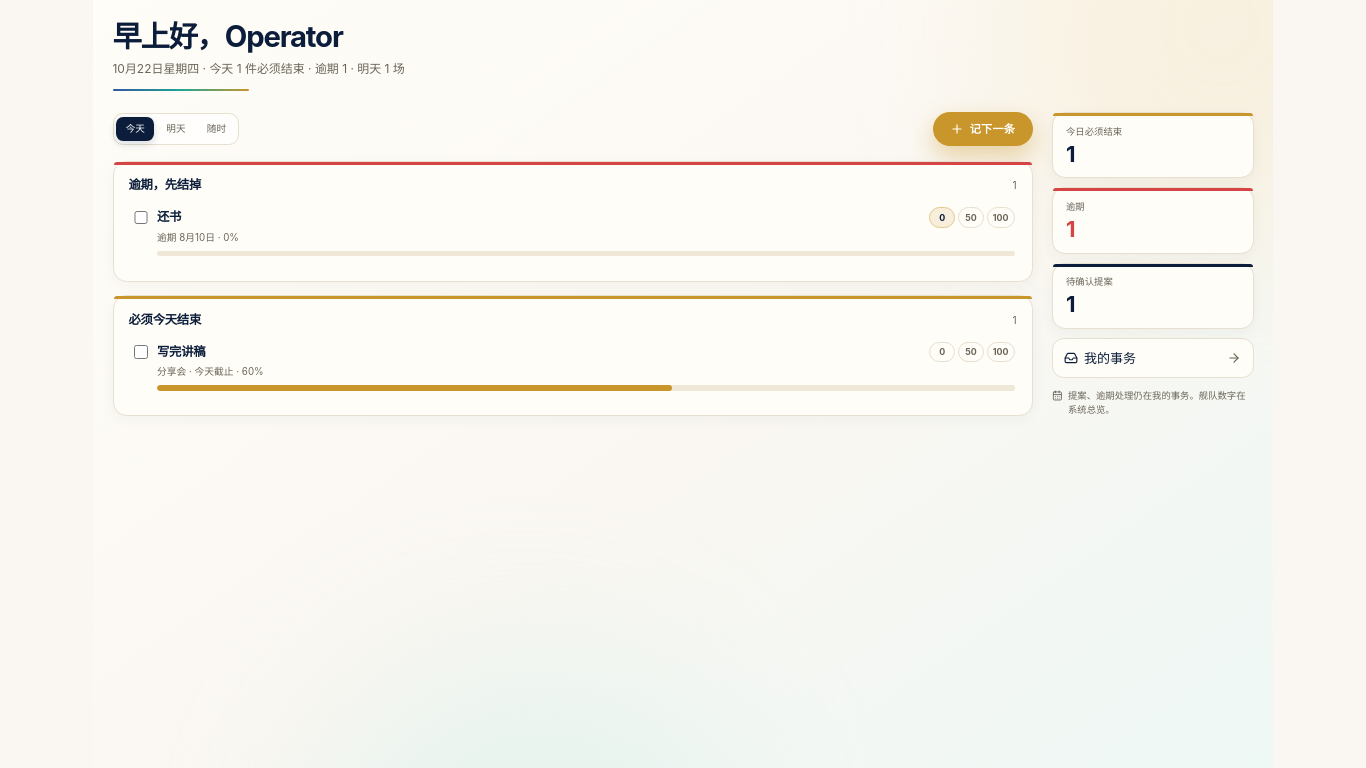
Test: Agenda Home › shows tomorrow events and anytime on their tabs
The width and height of the screenshot is (1366, 768).
Expected: the text "写完讲稿" is shown, [157, 342, 205, 361]
Click the tab "明天": (176, 129) [157, 117, 195, 141]
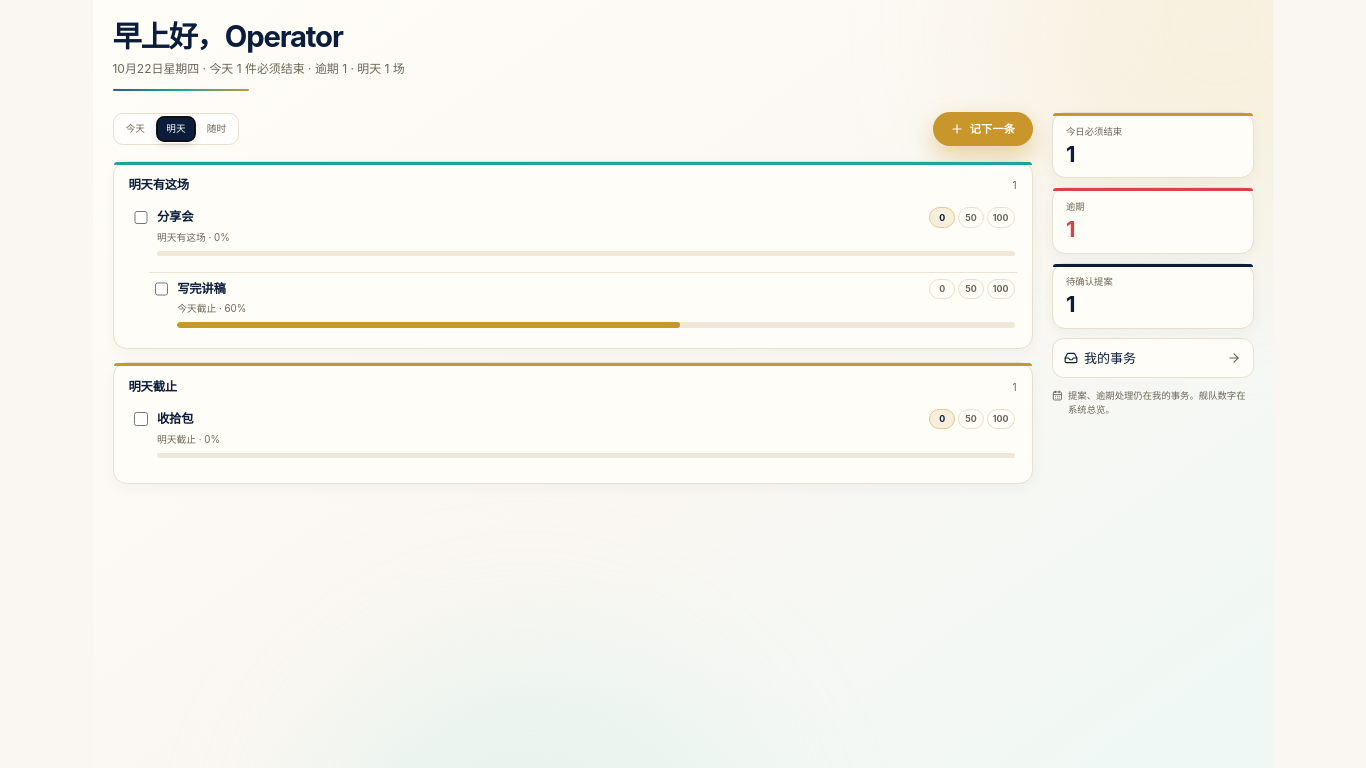
Expected: the text "分享会" is shown, [157, 207, 193, 226]
Result: the text "收拾包" is shown at [157, 409, 193, 428]
Click the tab "随时": (216, 129) [198, 117, 236, 141]
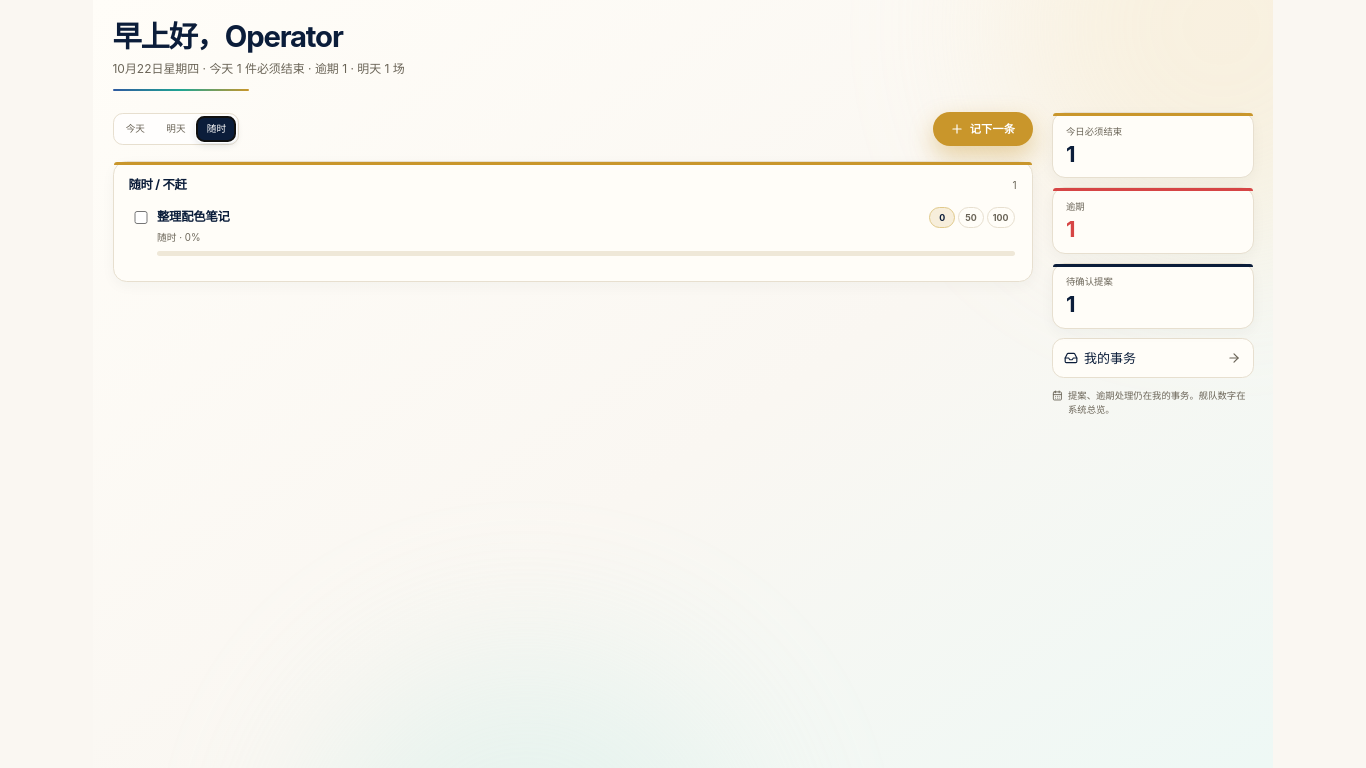
Result: the text "整理配色笔记" is shown at [157, 207, 230, 226]
Result: the text "分享会" is gone
